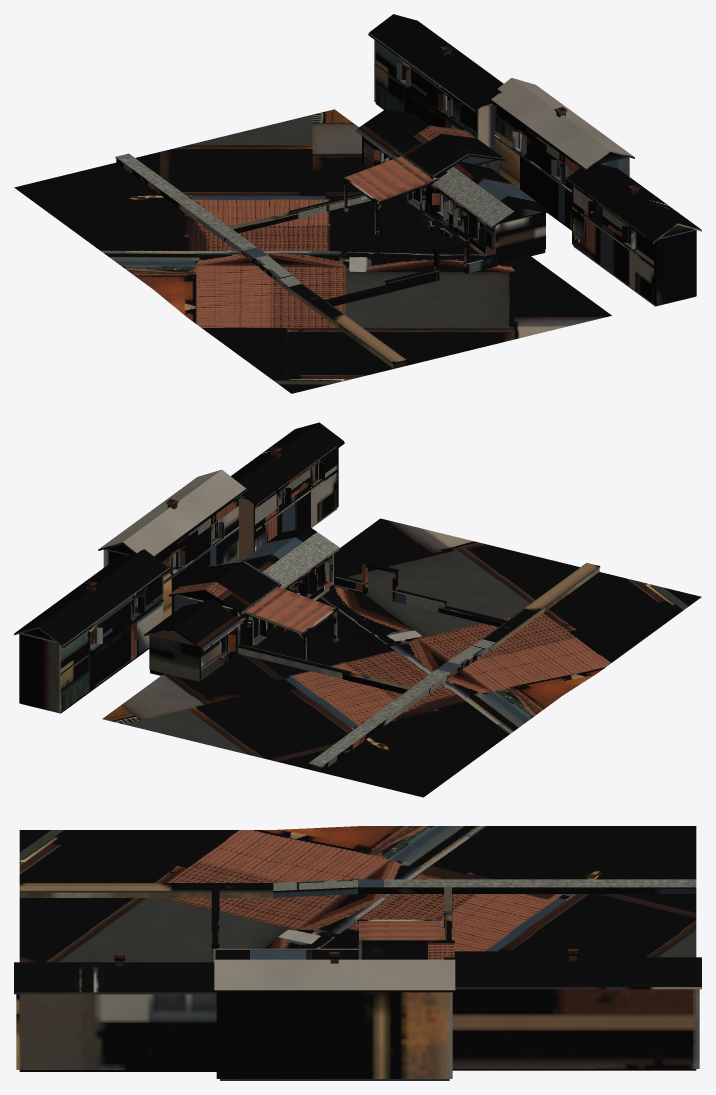
File: environment.obj
The picture shows the model from 3 angles, top to bottom: view 1: azimuth 30°, elevation 25°; view 2: azimuth 150°, elevation 25°; view 3: azimuth 270°, elevation 25°; orthographic projection. The views are drawn at different scales.
Parts seen in each view (by area): view 1: st_maria_praca_TH_RENDER_EnvironmentBakedAtlas; view 2: st_maria_praca_TH_RENDER_EnvironmentBakedAtlas; view 3: st_maria_praca_TH_RENDER_EnvironmentBakedAtlas.
Part boxes in pixels (box(x1,y1,x2,y2)): st_maria_praca_TH_RENDER_EnvironmentBakedAtlas: box(14, 14, 701, 393); st_maria_praca_TH_RENDER_EnvironmentBakedAtlas: box(14, 422, 701, 797); st_maria_praca_TH_RENDER_EnvironmentBakedAtlas: box(14, 826, 701, 1080).
Bounding box in the file's own units: 42.23 × 8.95 × 48.8.
